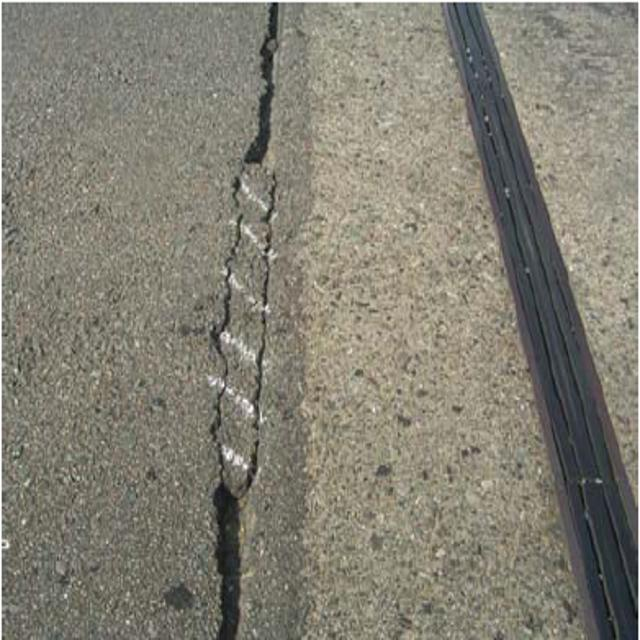crack: (200, 7, 309, 640)
